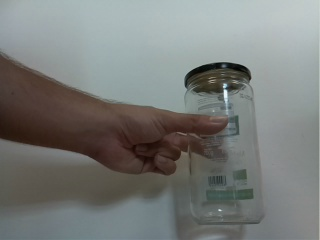pote cristal: (181, 61, 270, 229)
